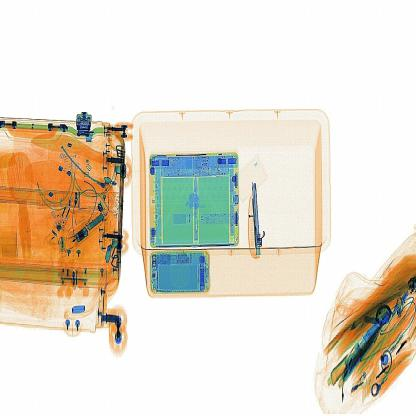pliers: (247, 180, 265, 266)
